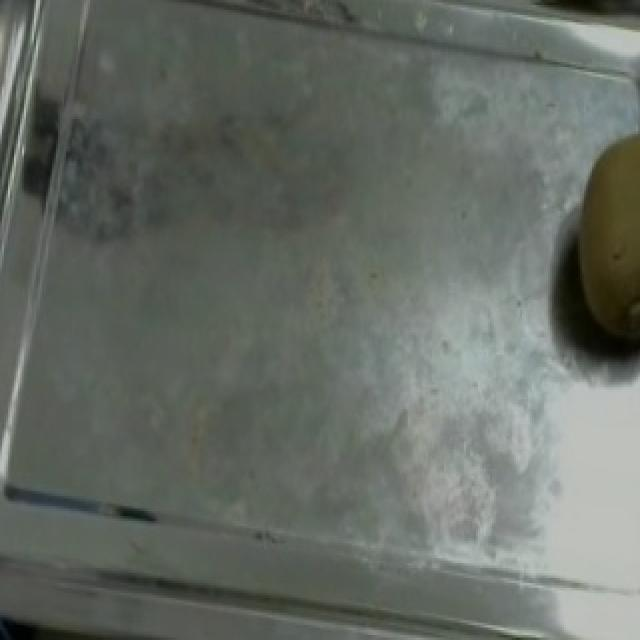Fruit: (544, 109, 640, 385)
